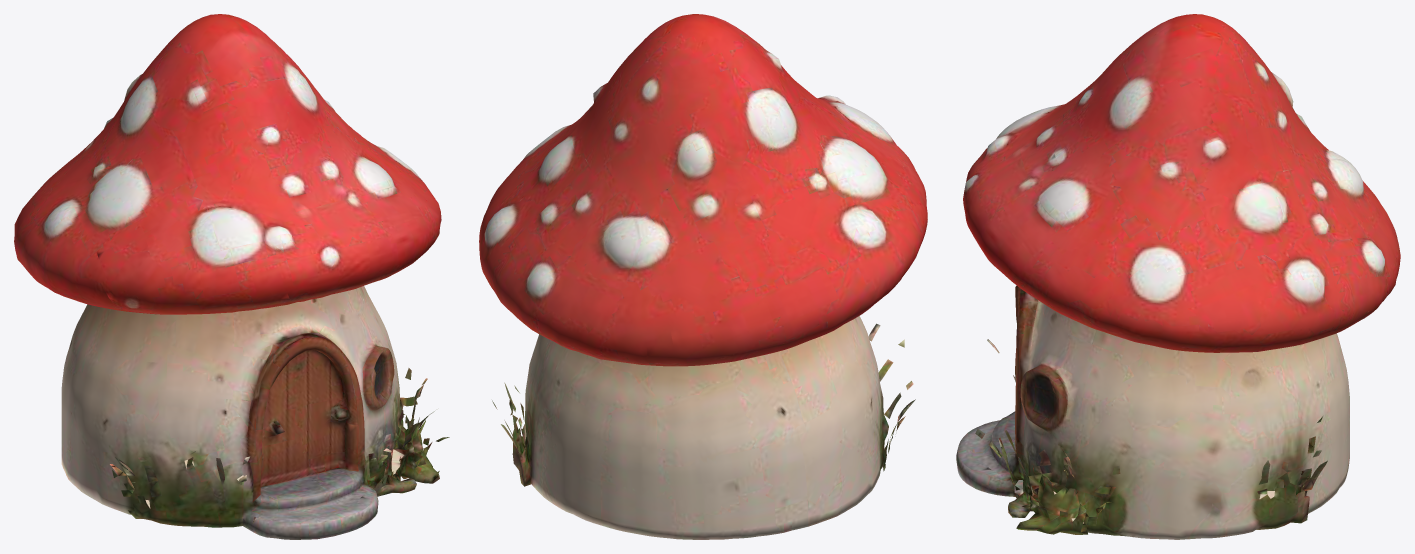
3 views of the same model, side by side, from view 1: azimuth 30°, elevation 25°; view 2: azimuth 150°, elevation 25°; view 3: azimuth 270°, elevation 25° (orthographic). The views are drawn at different scales.
Size of the model in its own units: 1.8 by 1.99 by 1.79.
Materials: 1 (1 with a texture image).
